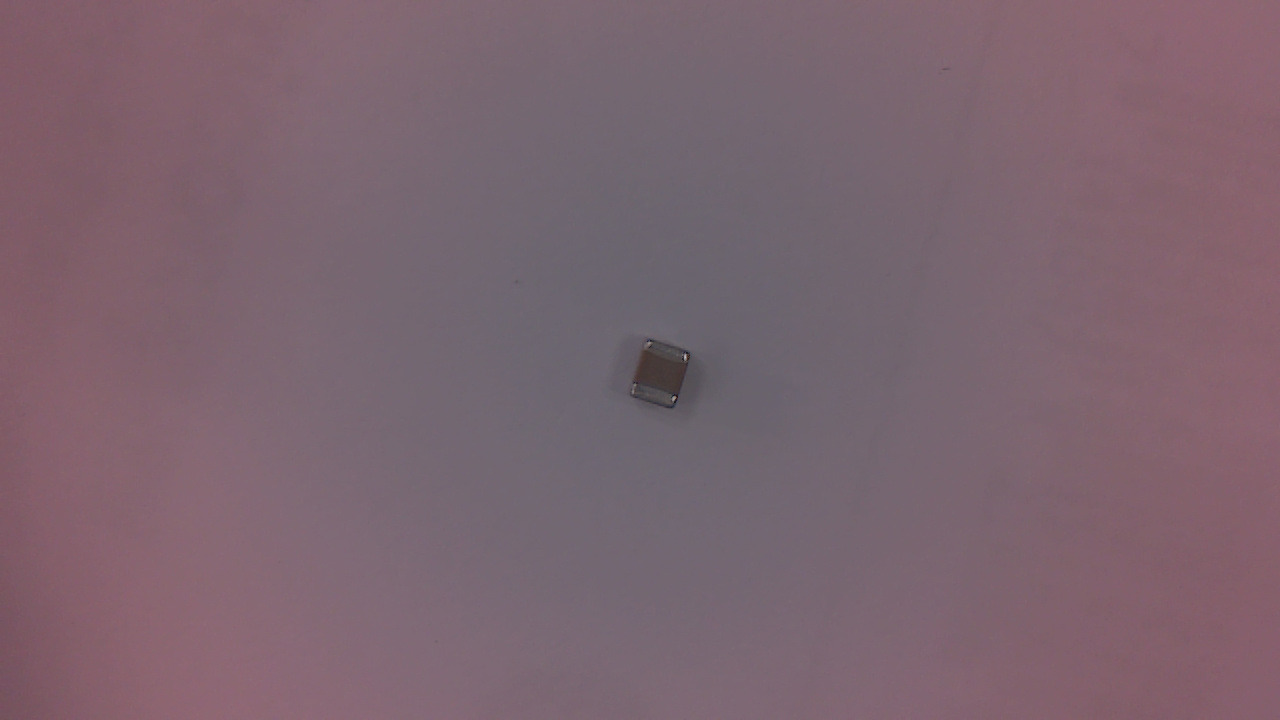Condensator: (632, 343, 695, 416)
